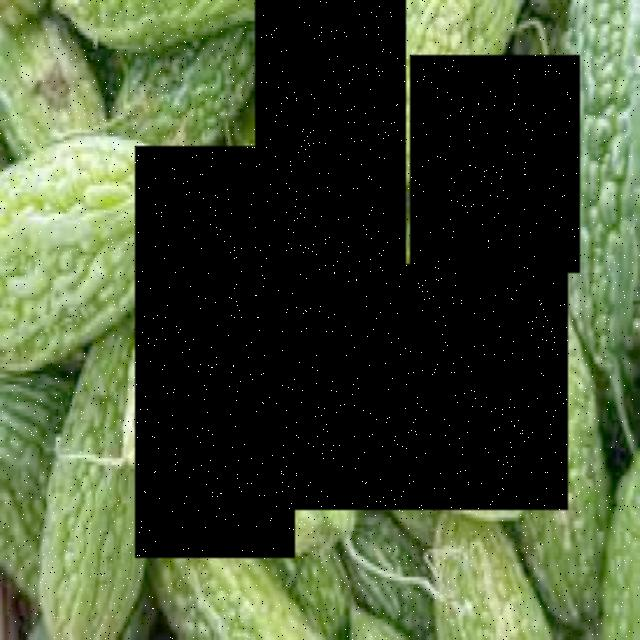Bitter_Gourd: (280, 264, 568, 510), (136, 146, 296, 558), (255, 0, 406, 278), (410, 55, 580, 273)
